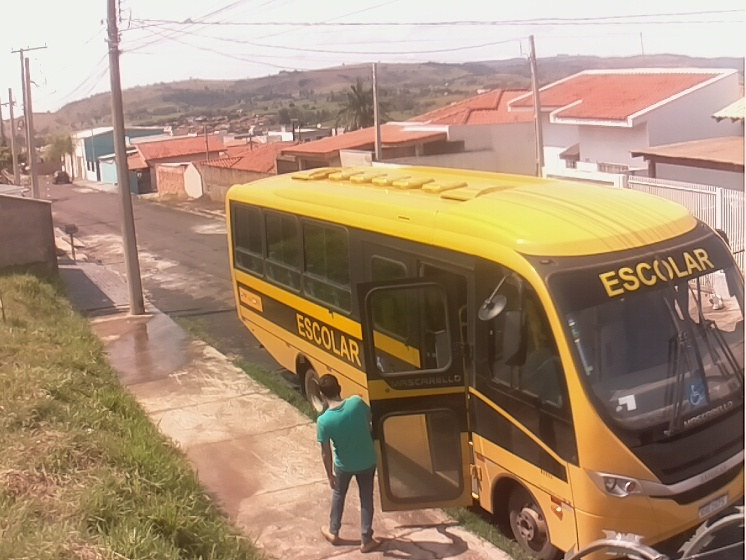person: (314, 372, 383, 552)
